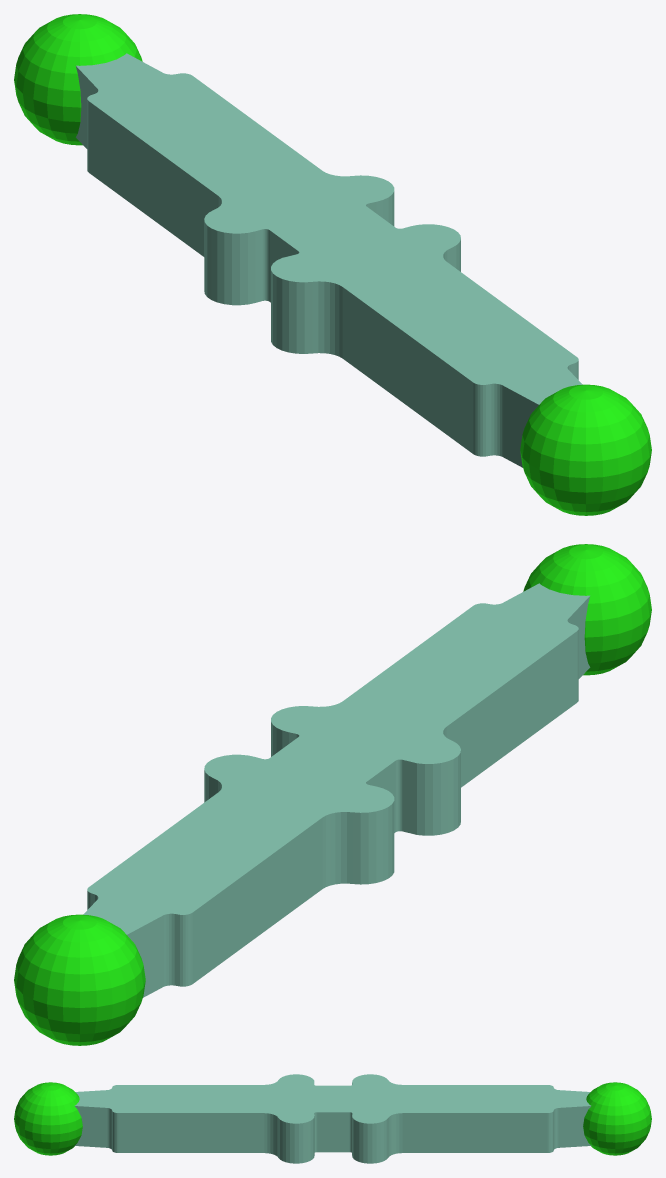
Rendered from star2u.fbx.
3 views of the same model, one above another, from view 1: azimuth 30°, elevation 25°; view 2: azimuth 150°, elevation 25°; view 3: azimuth 270°, elevation 25° (orthographic). The views are drawn at different scales.
Visible parts, largest first — view 1: star_2_u, c0, c1; view 2: star_2_u, c1, c0; view 3: star_2_u, c0, c1.
Boxes of the visible parts, box(x1,y1,x2,y2) form: star_2_u: box(76, 53, 582, 467); c0: box(520, 384, 651, 515); c1: box(14, 14, 142, 145); star_2_u: box(83, 583, 590, 997); c1: box(14, 914, 145, 1045); c0: box(523, 544, 651, 675); star_2_u: box(75, 1074, 591, 1163); c0: box(14, 1082, 82, 1155); c1: box(583, 1082, 651, 1155).
Bounding box in the file's own units: 7.94 × 5 × 43.4.
